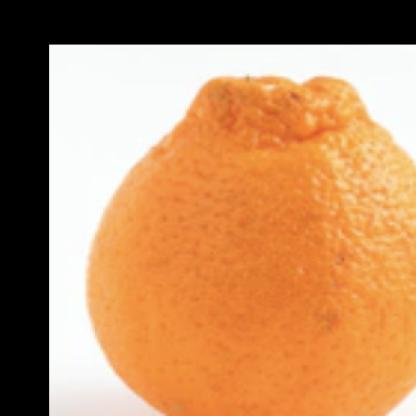fresh: (84, 72, 416, 416)
